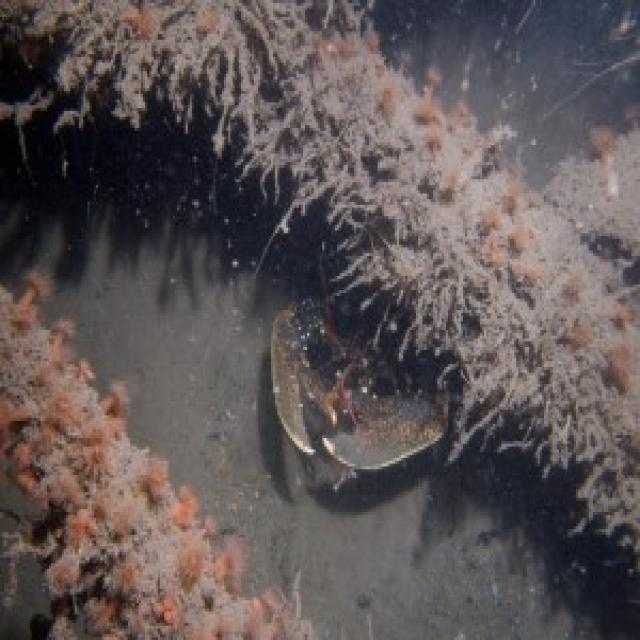lobsters: (114, 96, 548, 640)
